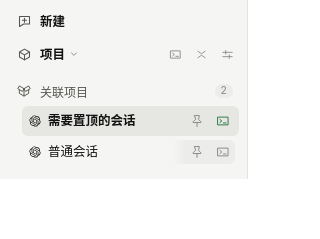
Test case: Sidebar 最近活动 › moves pinned sessions out of the regular list and restores them on unpin
This screenshot has width=320, height=239.
Check: the text "需要置顶的会话" is shown, box [48, 111, 136, 131]
# Click pin button on s-1
Click the button named "置顶会话：需要置顶的会话": (197, 121) [185, 109, 209, 133]
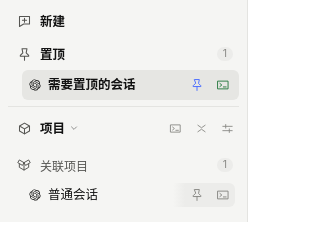
Check: the text "需要置顶的会话" is shown once, box [48, 75, 136, 95]
Check: the button titled "置顶（1）" is shown, box [8, 39, 239, 69]
Check: the button titled "关联项目（1）" is shown, box [8, 151, 239, 179]
# Unpin by clicking the pin button
Click the button named "取消置顶：需要置顶的会话": (197, 85) [185, 73, 209, 97]
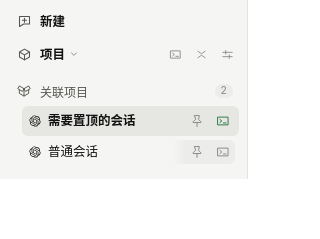
Check: the text "需要置顶的会话" is shown once, box [48, 111, 136, 131]
Check: the button named "置顶会话：需要置顶的会话" is shown, box [185, 109, 209, 133]
Check: the button titled "关联项目（2）" is shown, box [8, 77, 239, 105]
